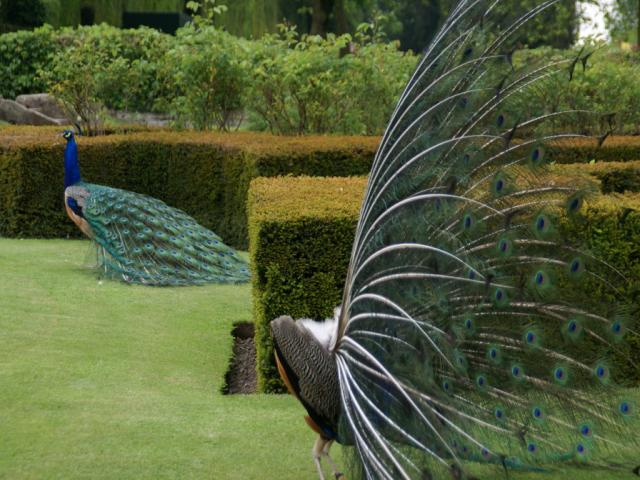Bird: (264, 0, 640, 480), (59, 127, 256, 292)
